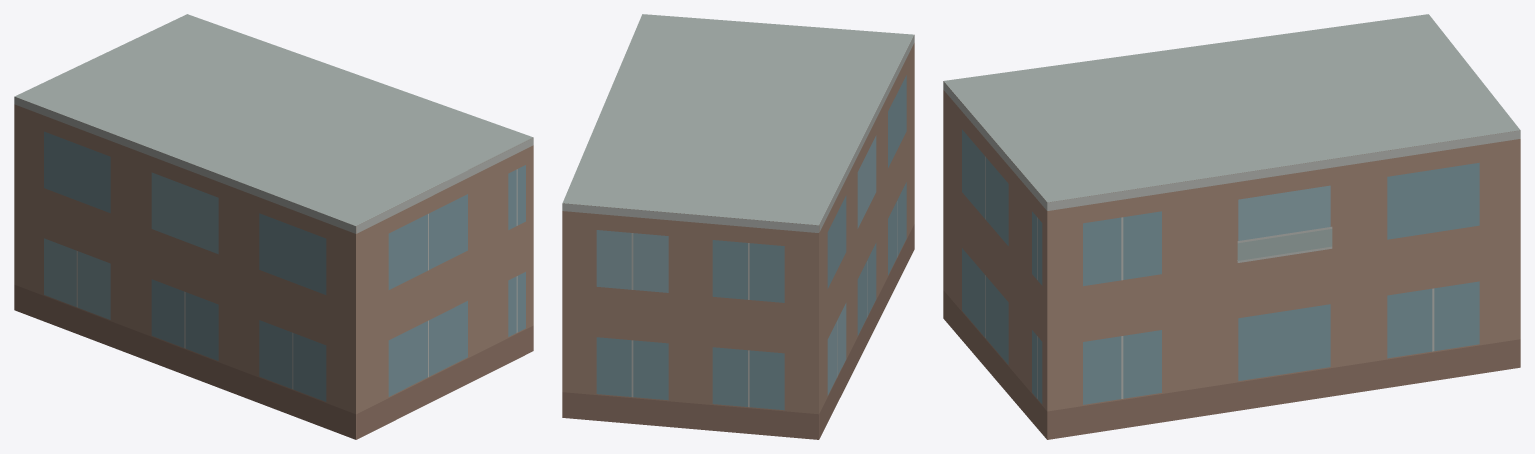
File: survey-upis-32497083.glb
The picture shows the model from 3 angles, left to right: view 1: azimuth 30°, elevation 25°; view 2: azimuth 150°, elevation 25°; view 3: azimuth 270°, elevation 25°; orthographic projection. The views are drawn at different scales.
Visible parts, largest first — view 1: survey-upis-32497083.tmp; view 2: survey-upis-32497083.tmp; view 3: survey-upis-32497083.tmp.
Part boxes in pixels (x1=…): survey-upis-32497083.tmp: x1=14, y1=14, x2=533, y2=439; survey-upis-32497083.tmp: x1=562, y1=14, x2=914, y2=439; survey-upis-32497083.tmp: x1=943, y1=14, x2=1520, y2=439.
Bounding box in the file's own units: 11.42 × 6.7 × 14.78.
